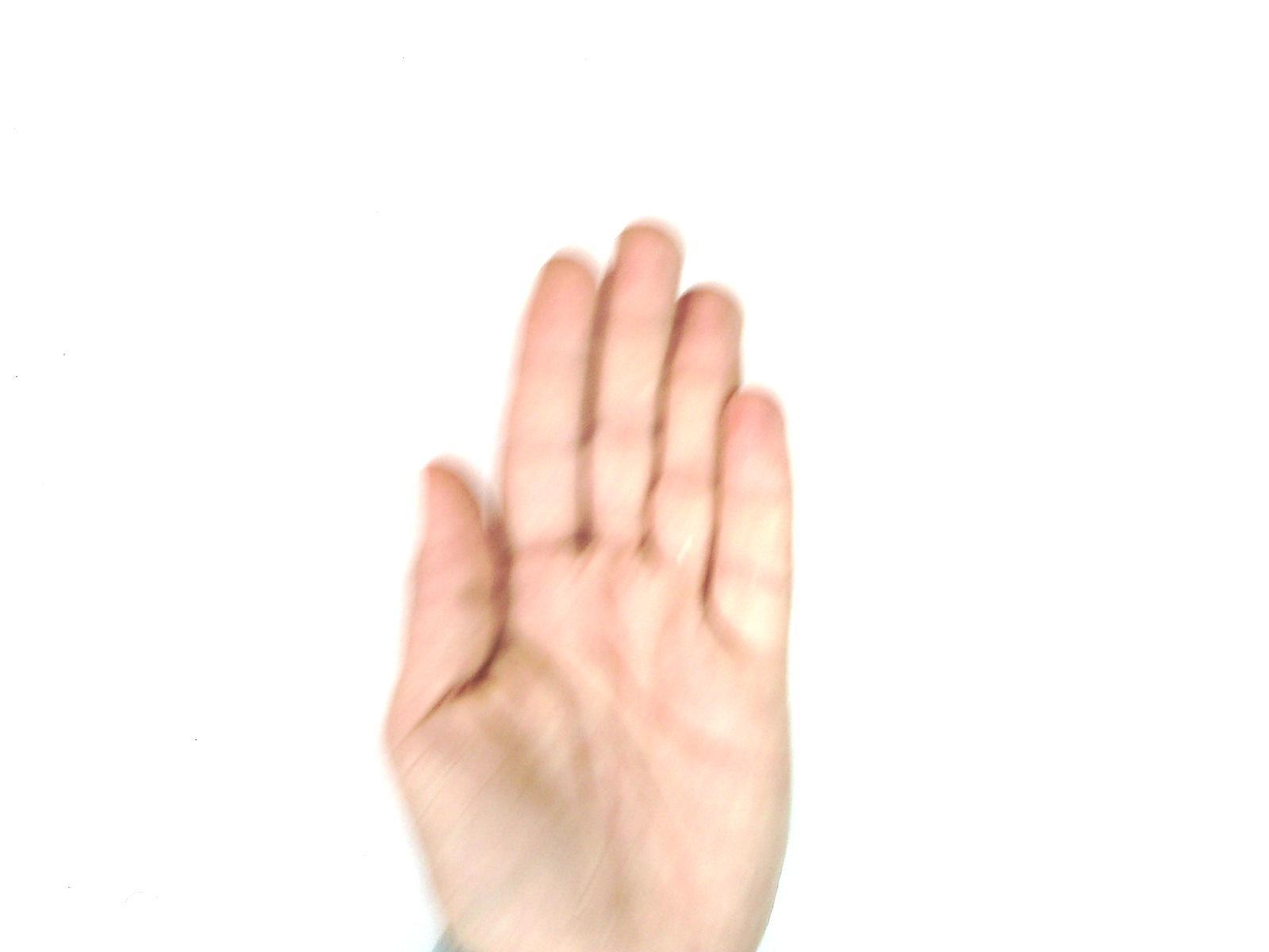open_palm: (380, 219, 799, 951)
